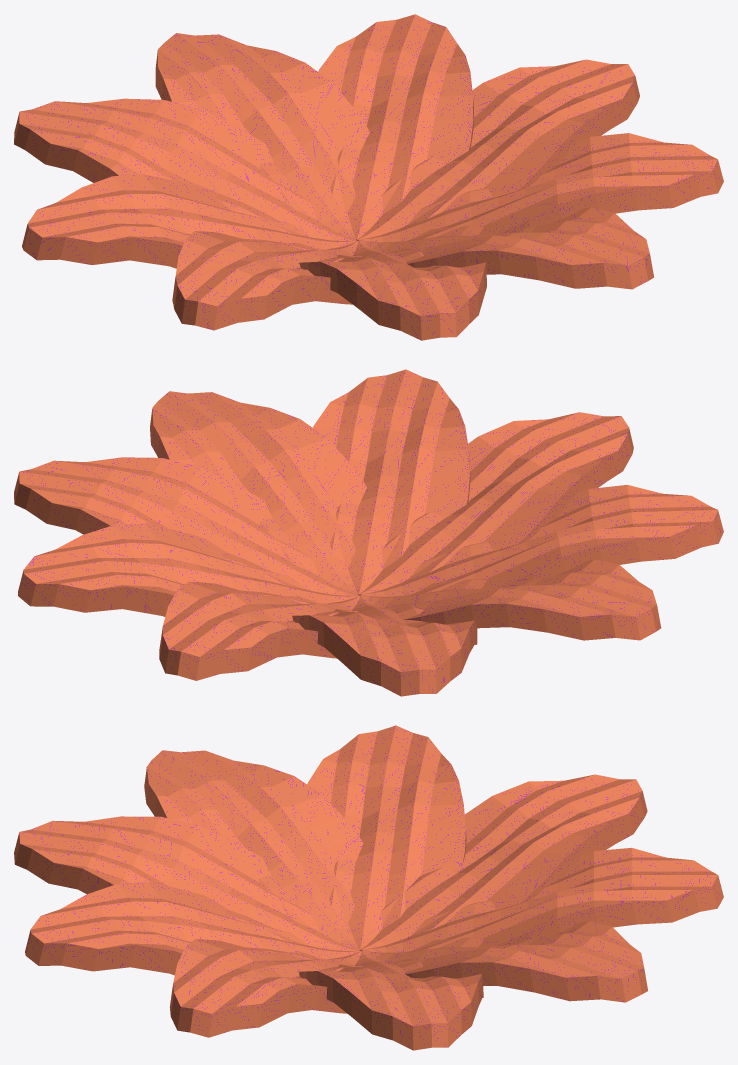
File: flower.glb
3 views of the same model, one above another, from view 1: azimuth 30°, elevation 25°; view 2: azimuth 150°, elevation 25°; view 3: azimuth 270°, elevation 25° (orthographic).
Visible parts, largest first — view 1: Circle; view 2: Circle; view 3: Circle.
Boxes of the visible parts, x1=… form: Circle: x1=14, y1=14, x2=723, y2=340; Circle: x1=14, y1=369, x2=723, y2=696; Circle: x1=14, y1=725, x2=723, y2=1050.
Size of the model in its own units: 5.19 by 0.8005 by 5.14.
Materials: 1 (1 with a texture image).
